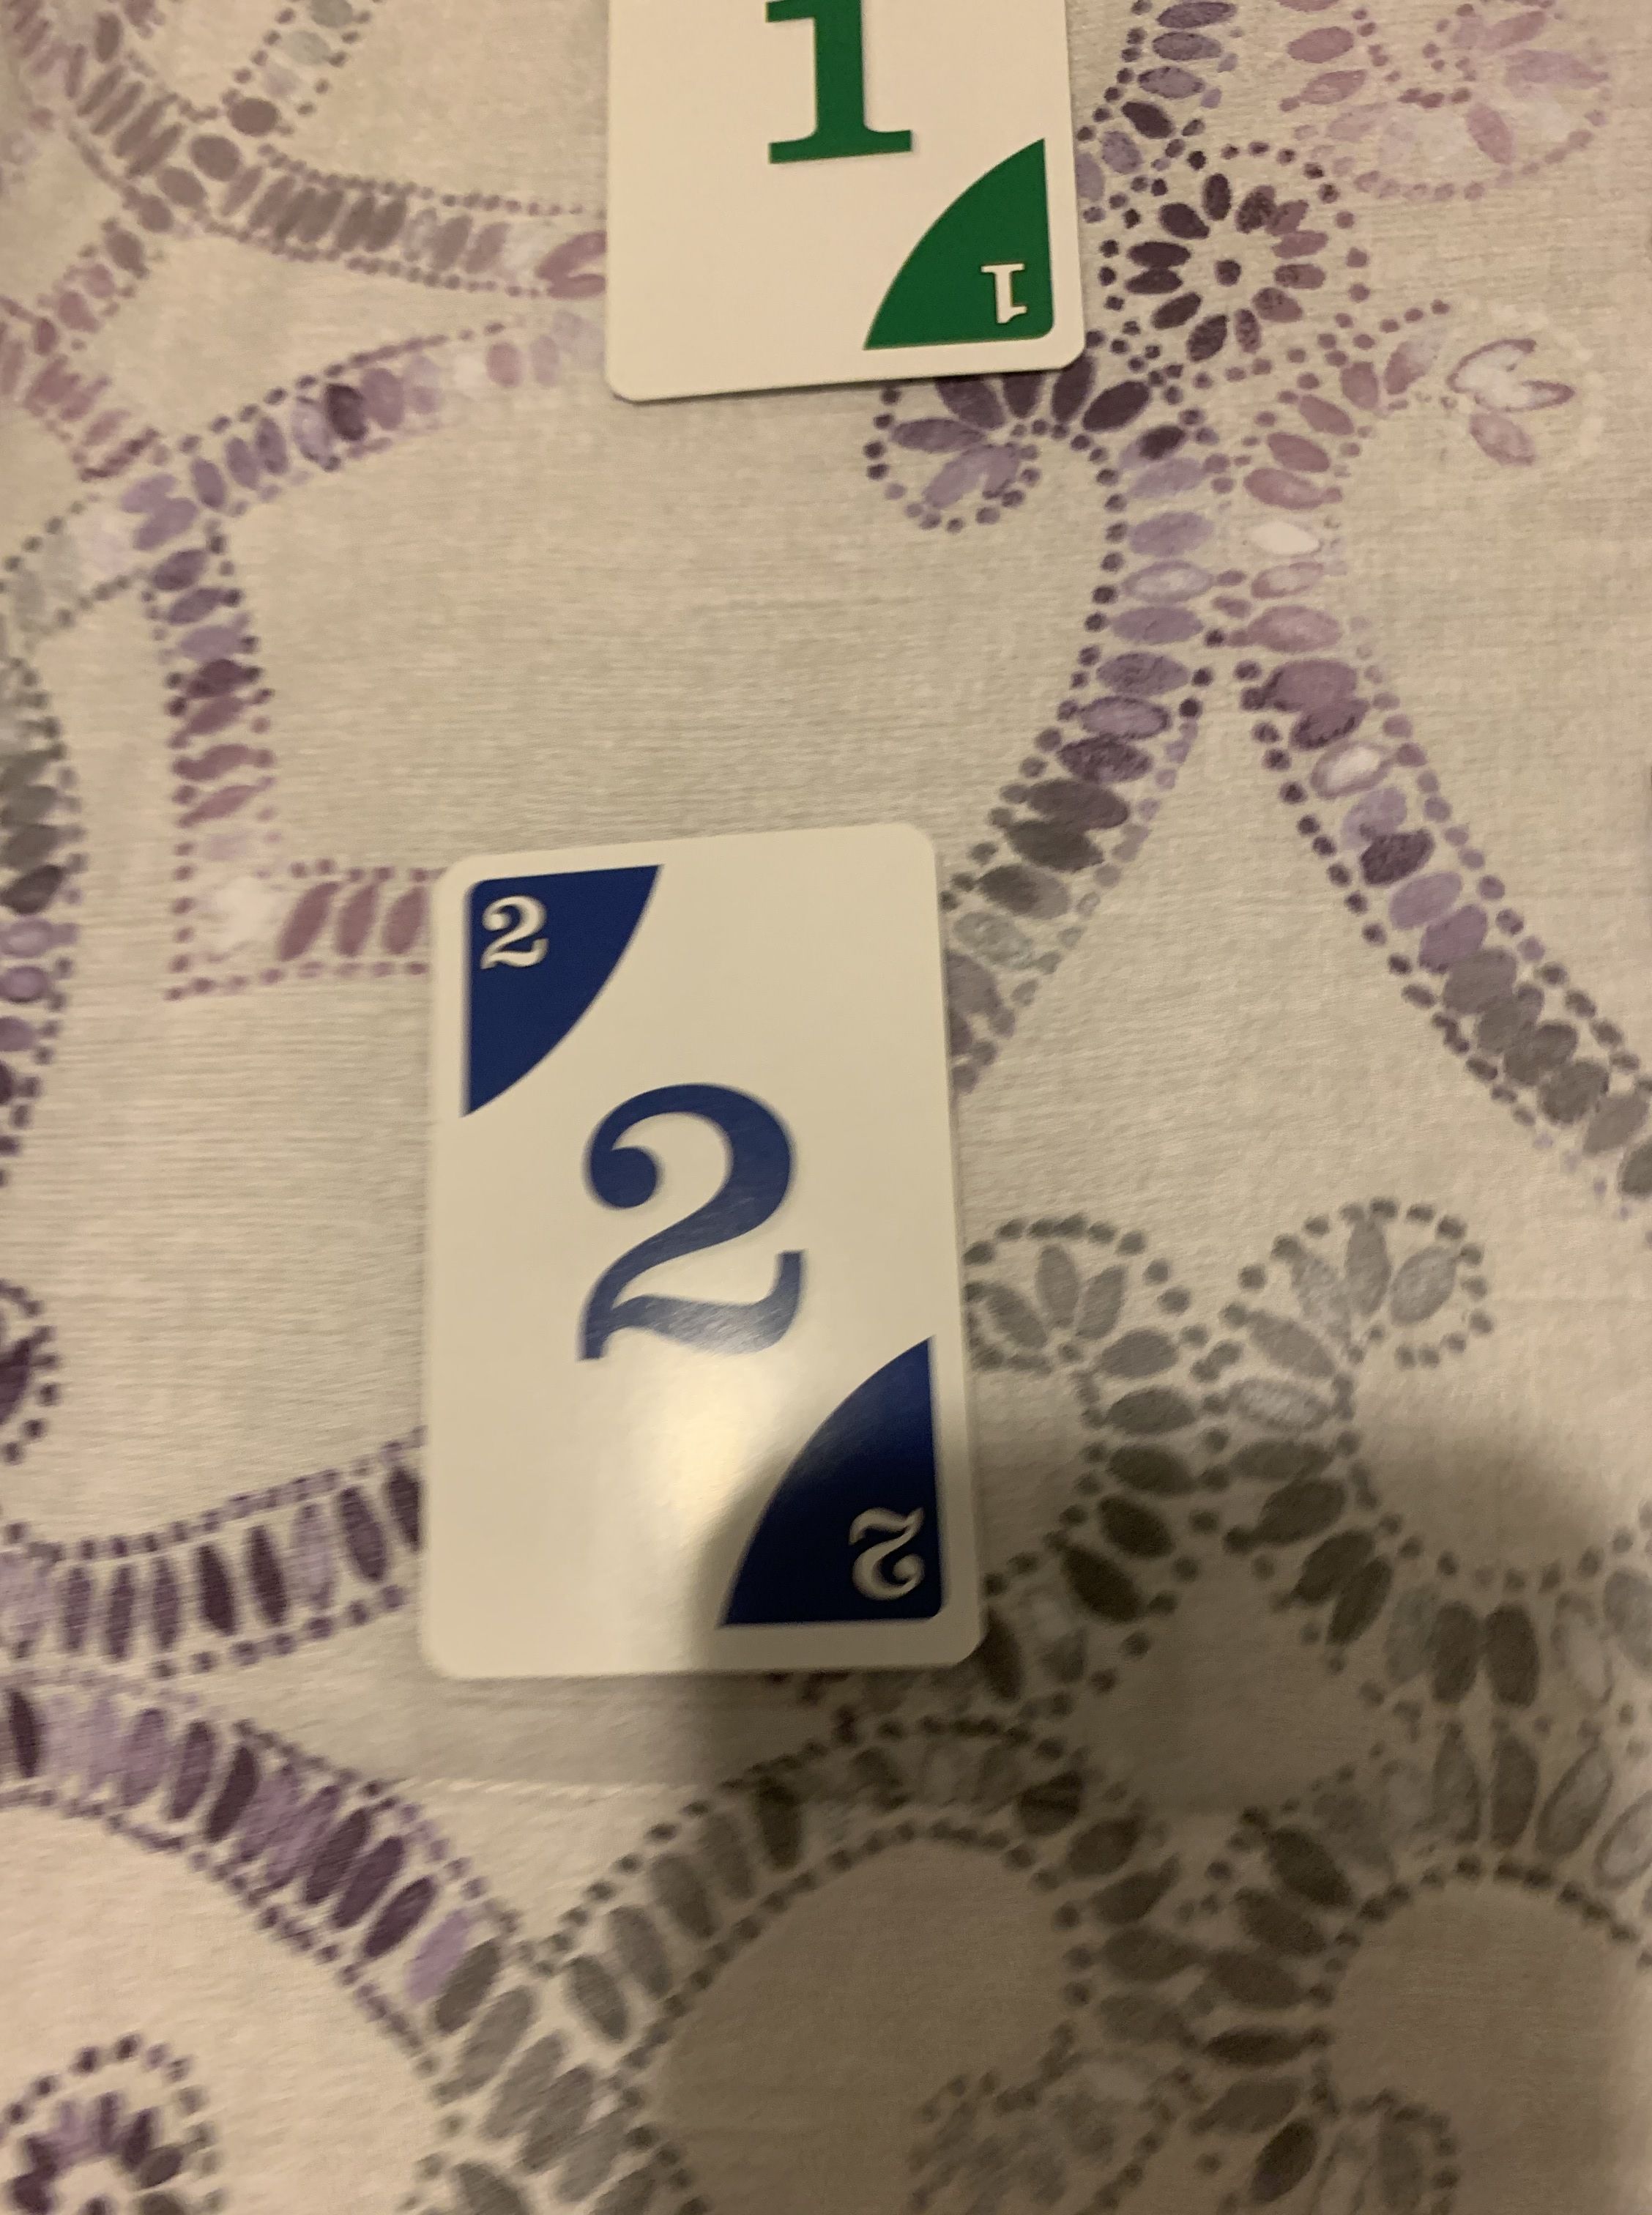one: (590, 0, 1088, 408)
two: (416, 821, 982, 1684)
